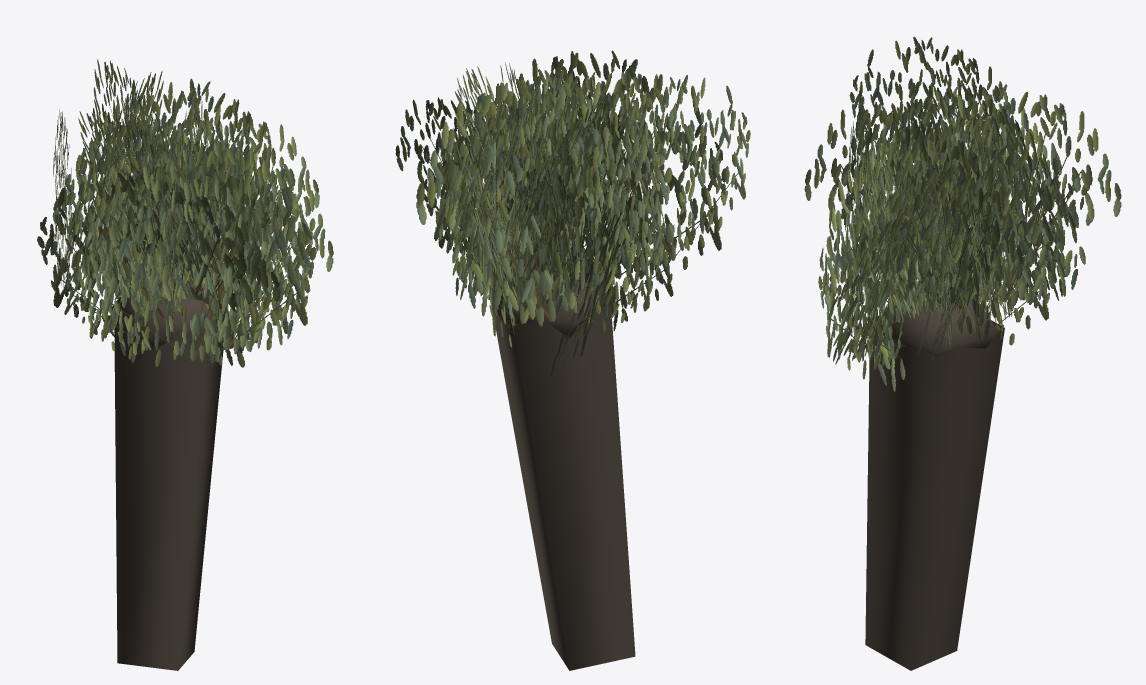
Rendered from tpl_pollards_meadow_pollard_cut_lo.glb.
The picture shows the model from 3 angles, left to right: view 1: azimuth 30°, elevation 25°; view 2: azimuth 150°, elevation 25°; view 3: azimuth 270°, elevation 25°; orthographic projection. The views are drawn at different scales.
Parts seen in each view (by area): view 1: tpl_pollards_meadow_pollard_cut_lo; view 2: tpl_pollards_meadow_pollard_cut_lo; view 3: tpl_pollards_meadow_pollard_cut_lo.
Boxes of the visible parts, box(x1,y1,x2,y2) form: tpl_pollards_meadow_pollard_cut_lo: box(37, 59, 333, 670); tpl_pollards_meadow_pollard_cut_lo: box(395, 50, 750, 670); tpl_pollards_meadow_pollard_cut_lo: box(804, 36, 1121, 670).
Size of the model in its own units: 2.41 by 4.3 by 2.3.
2 materials, 1 textured.
